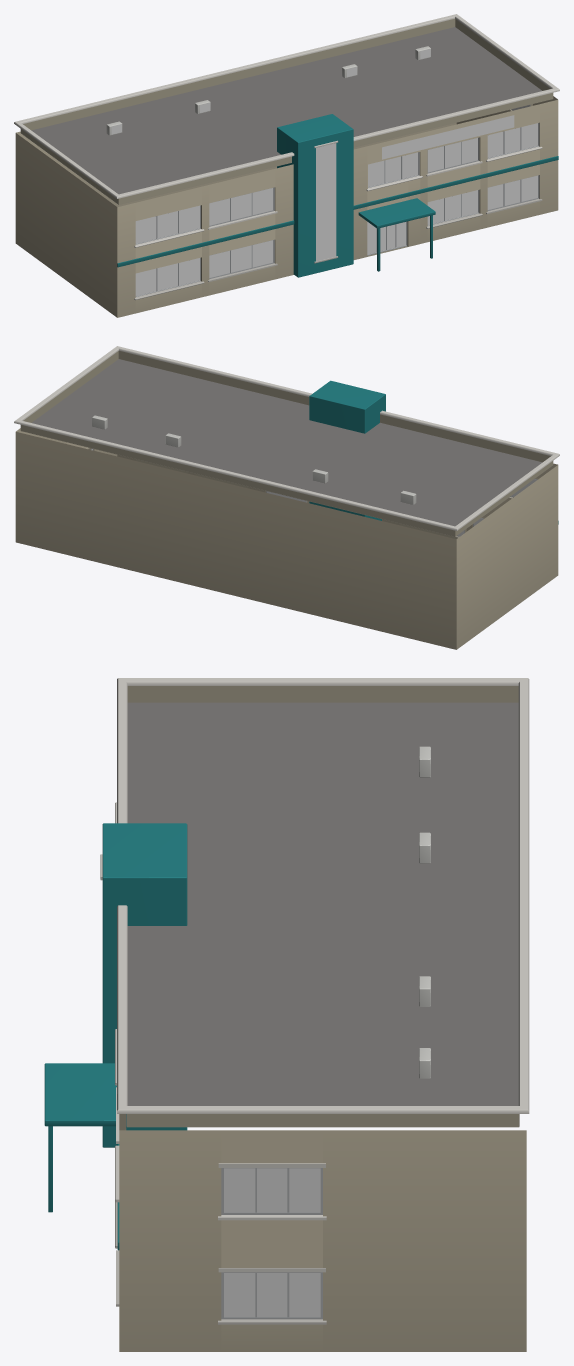
The model's file is SchoolFL.fbx.
3 renders of one model, top to bottom at view 1: azimuth 30°, elevation 25°; view 2: azimuth 150°, elevation 25°; view 3: azimuth 270°, elevation 25°, orthographic. The views are drawn at different scales.
Visible parts, largest first — view 1: SchoolFL; view 2: SchoolFL; view 3: SchoolFL.
Part boxes in pixels (x1,y1,x2,y2): SchoolFL: (14, 14, 559, 317); SchoolFL: (14, 346, 559, 649); SchoolFL: (44, 678, 529, 1351).
Bounding box in the file's own units: 30.17 × 8.8 × 14.27.
